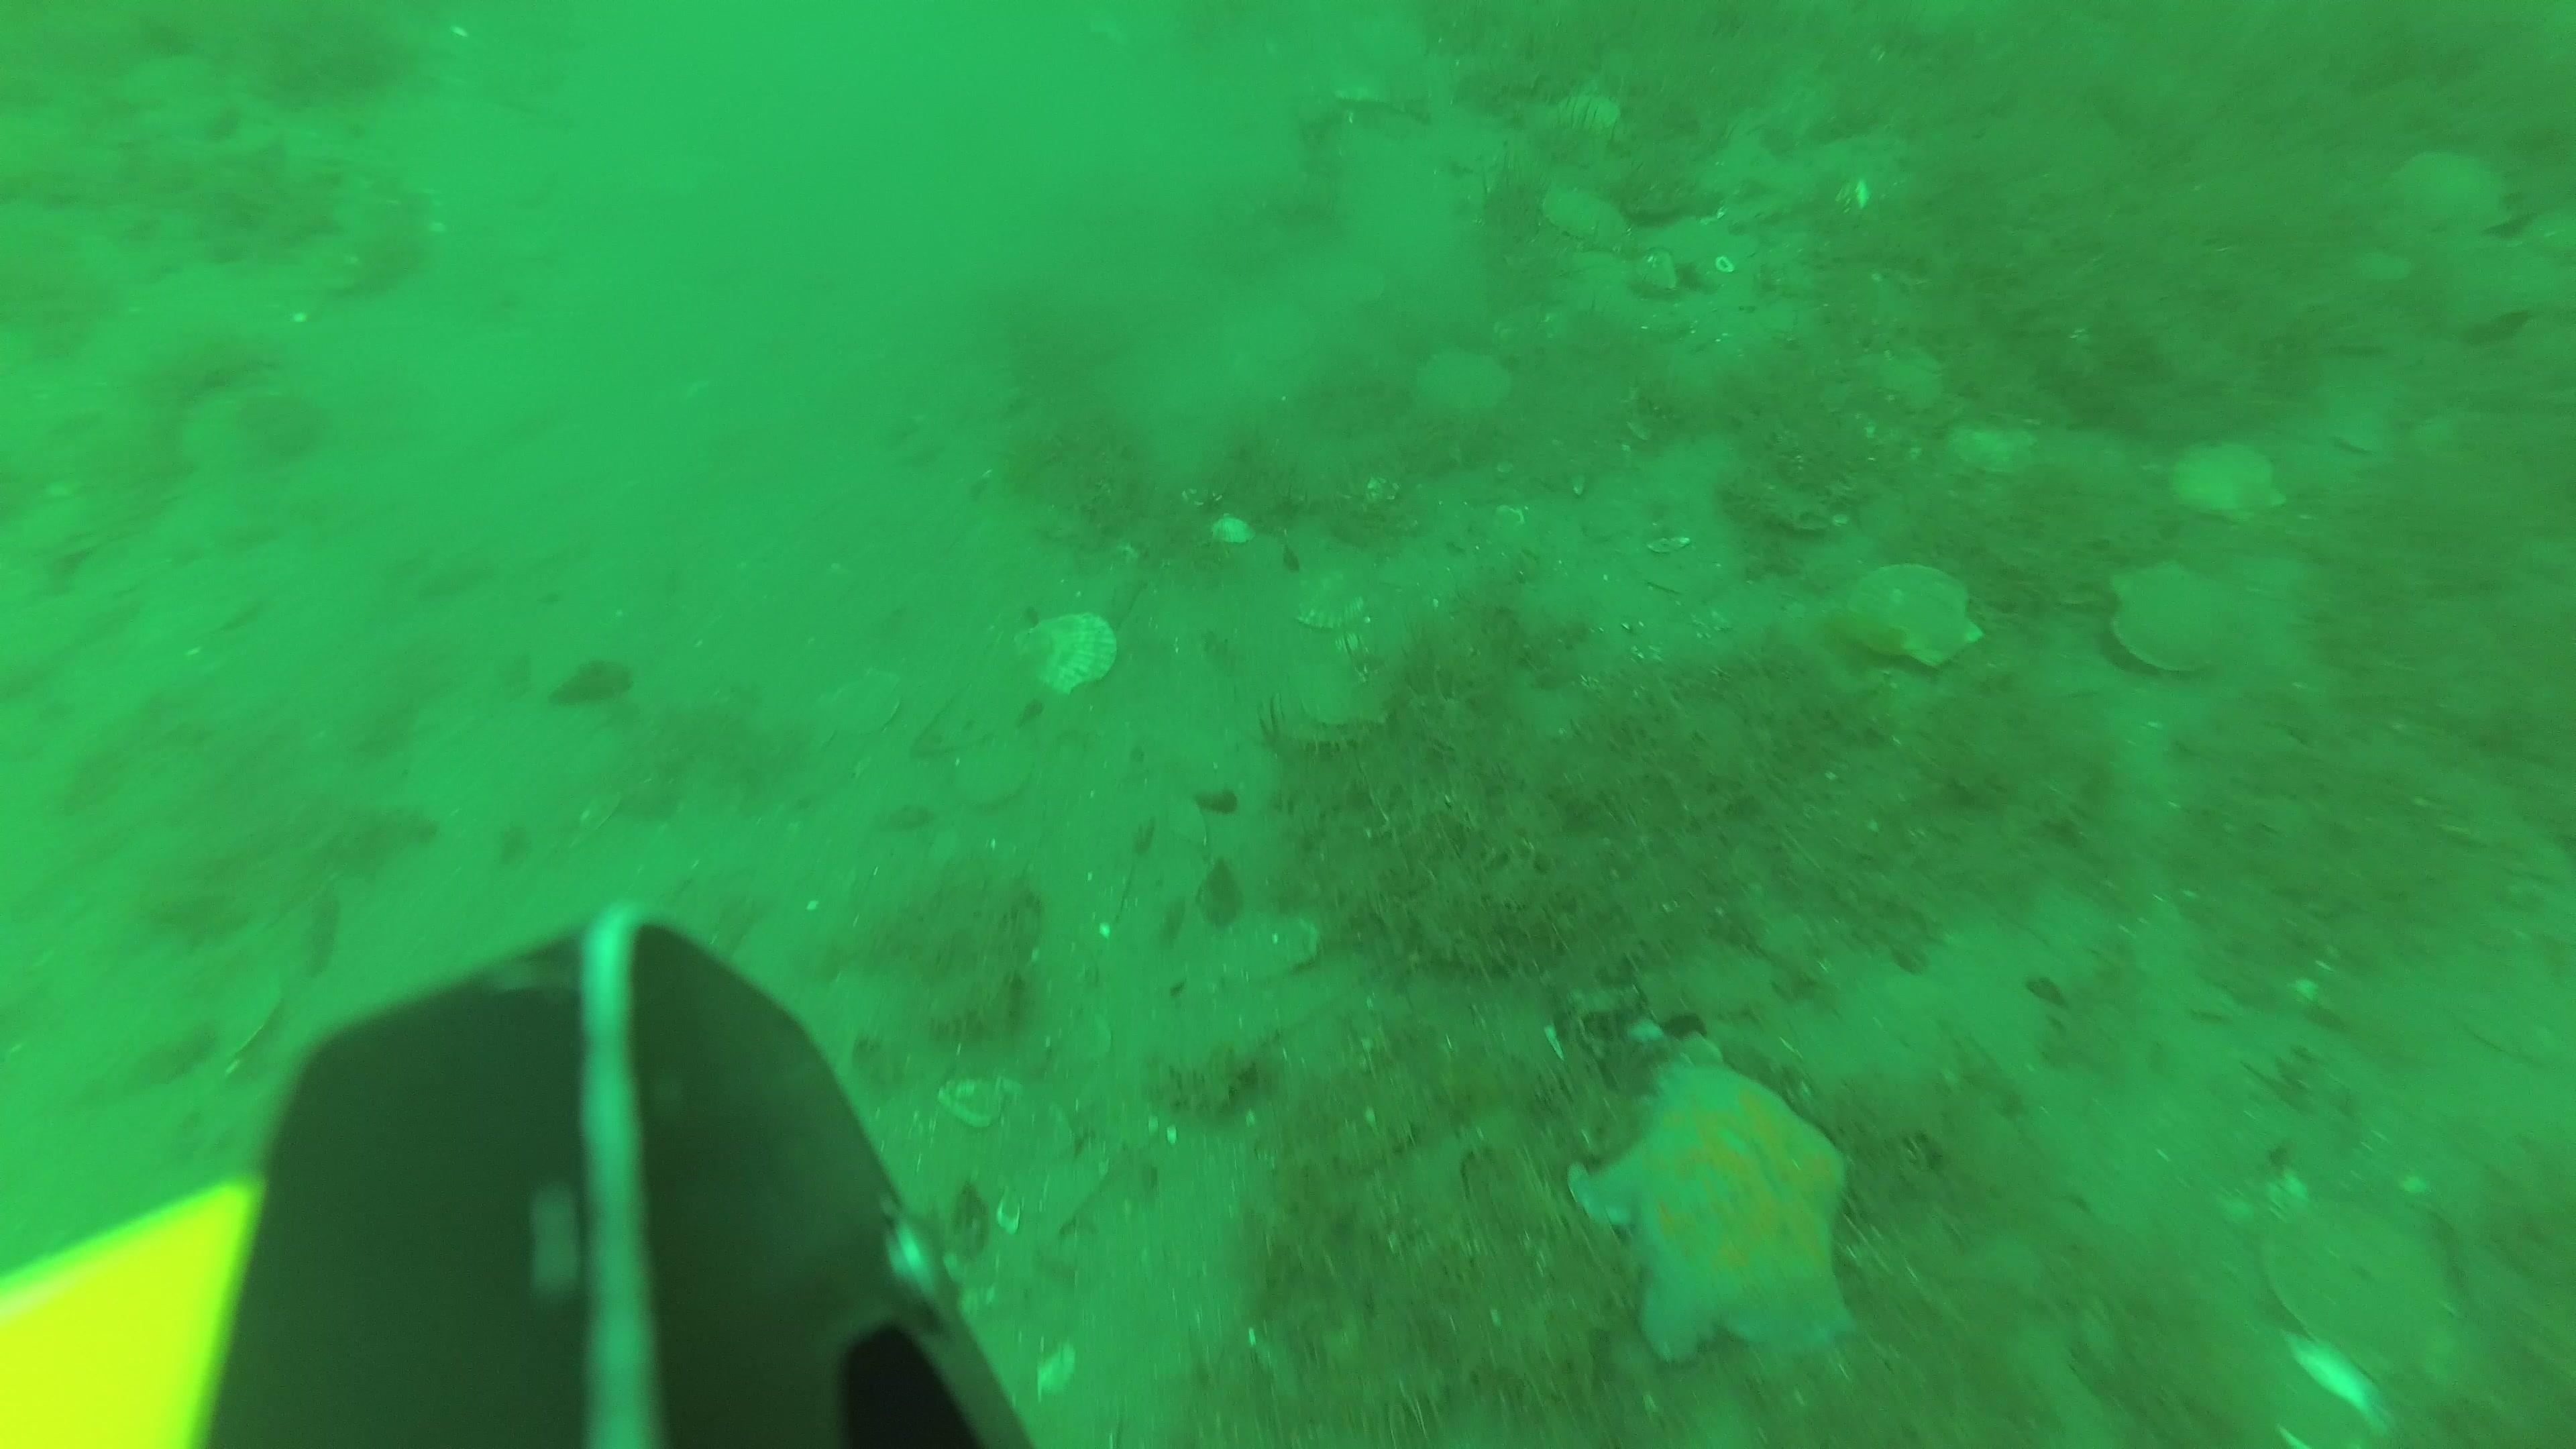scallop: (2258, 1187, 2472, 1387), (1836, 561, 1985, 676), (2100, 563, 2250, 676), (2167, 435, 2293, 531), (2383, 145, 2514, 234), (1005, 607, 1122, 699), (1226, 295, 1318, 405), (1286, 234, 1396, 322), (2045, 425, 2160, 506), (1405, 349, 1522, 421), (1286, 658, 1394, 736), (1865, 341, 1955, 433), (1944, 412, 2049, 478), (1541, 180, 1635, 249), (1284, 563, 1376, 632), (1546, 73, 1631, 140), (957, 770, 1039, 814)
starfish: (1562, 1044, 1858, 1362)
